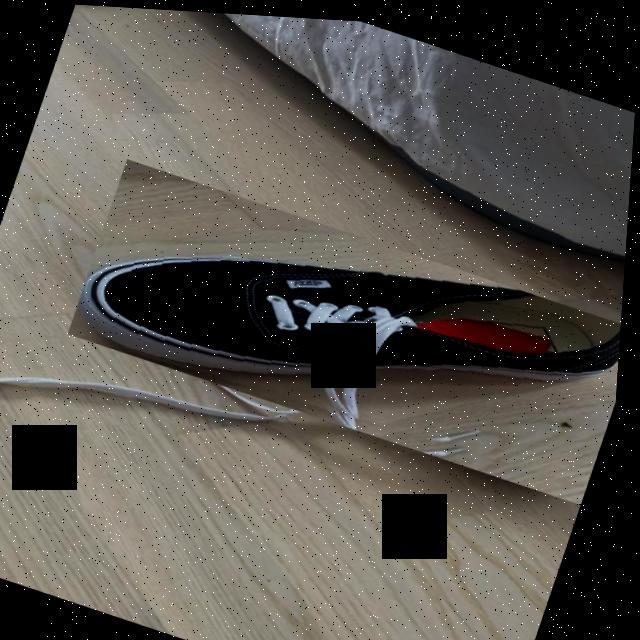shoe: (64, 154, 632, 498)
